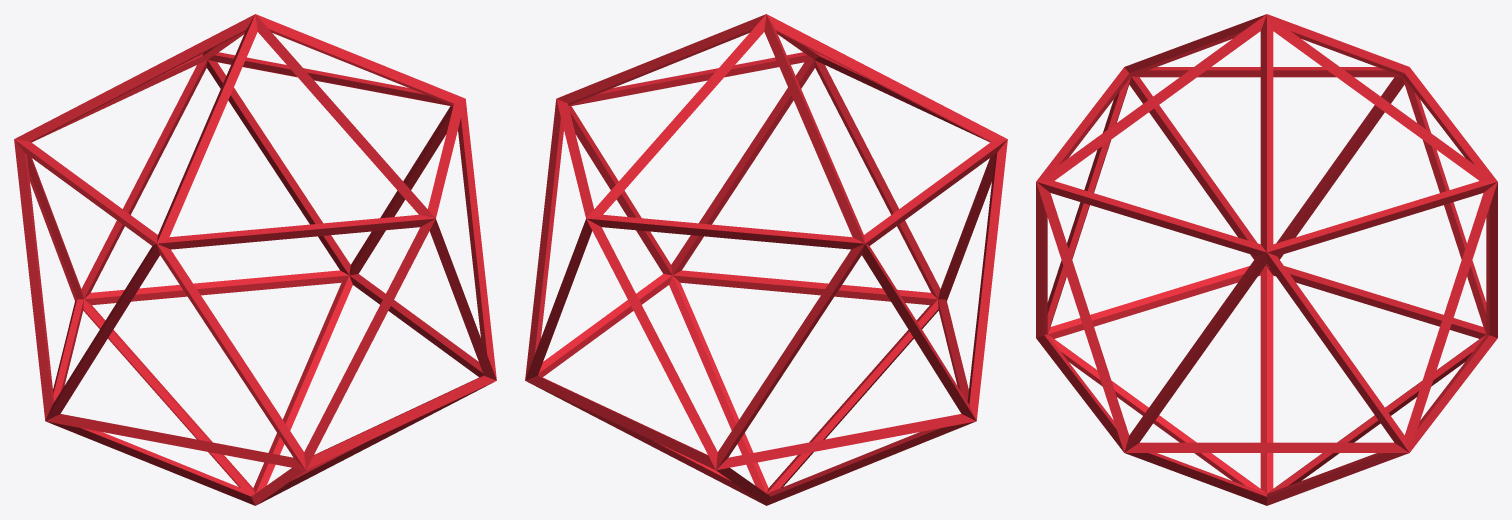
File: cage.glb
The picture shows the model from 3 angles, left to right: view 1: azimuth 30°, elevation 25°; view 2: azimuth 150°, elevation 25°; view 3: azimuth 270°, elevation 25°; orthographic projection.
Visible parts, largest first — view 1: Icosphere; view 2: Icosphere; view 3: Icosphere.
Boxes of the visible parts, bbox=[...] form: Icosphere: bbox=[14, 14, 496, 505]; Icosphere: bbox=[525, 14, 1007, 505]; Icosphere: bbox=[1036, 14, 1497, 505].
Size of the model in its own units: 2.06 by 2.3 by 1.96.
